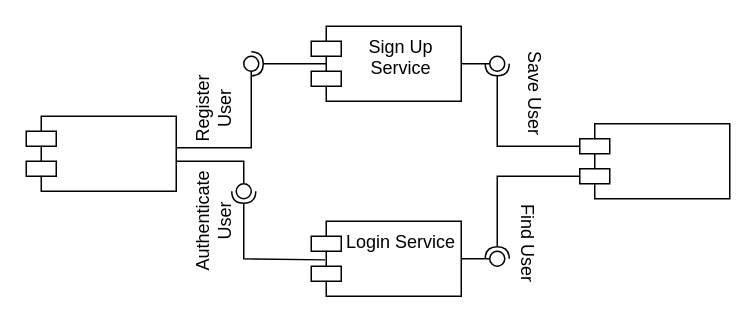
Image size: 756x323. Some labels were removed from this diagram. The shapes that lost their labels are listed below. From the top down, each one's box as (x1, y1, x2, y2) in pixels, then its label:
(25, 115, 176, 191): User
(578, 122, 730, 199): Database
